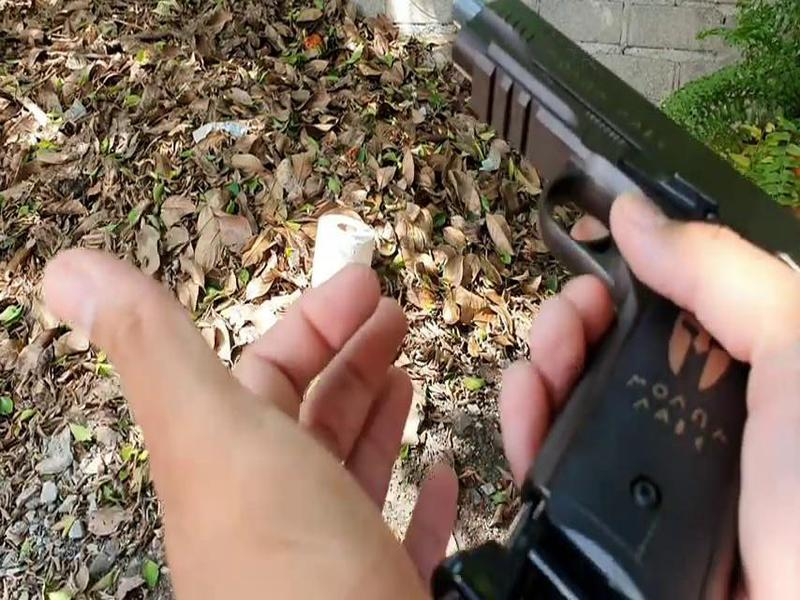Pistola: (442, 10, 800, 547)
